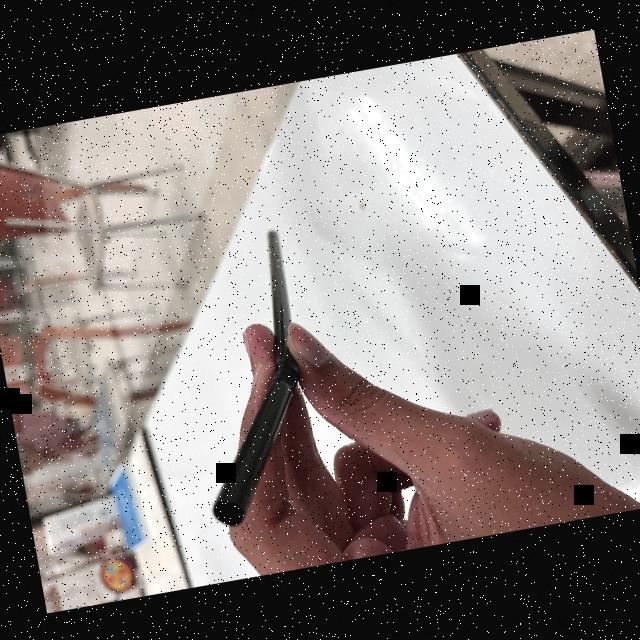straw: (159, 220, 336, 533)
